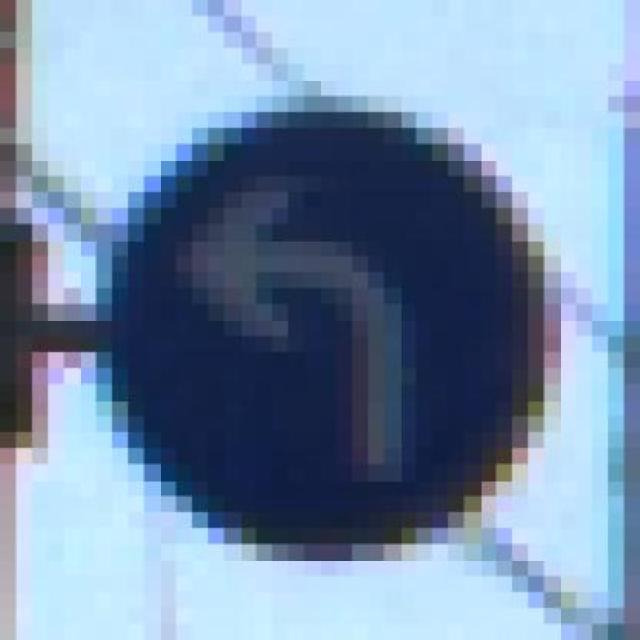Turn left ahead: (96, 79, 576, 576)
